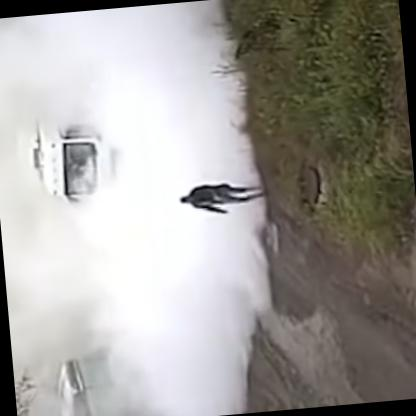Human Body: (173, 174, 270, 223)
